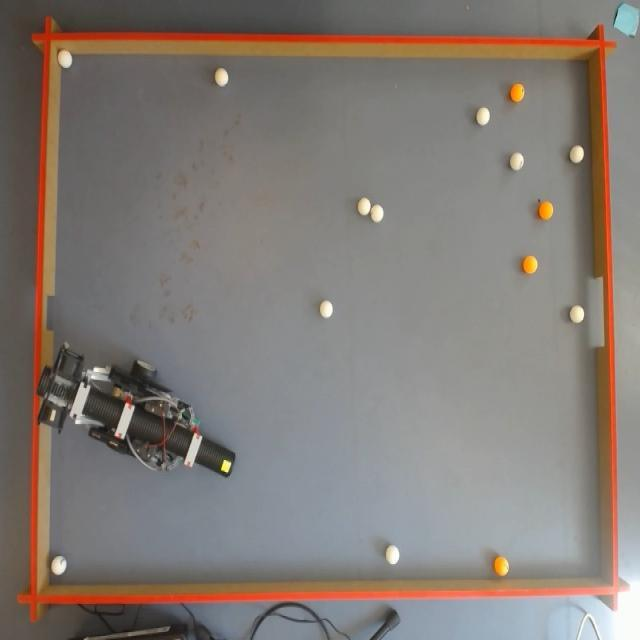orange: (538, 198, 556, 219), (494, 554, 511, 576), (510, 82, 526, 102), (520, 255, 536, 274)
robot: (42, 342, 240, 494)
white: (570, 145, 586, 164), (358, 196, 373, 216), (216, 66, 230, 86), (58, 50, 72, 70), (386, 545, 400, 565), (320, 298, 334, 318), (52, 556, 66, 576), (370, 202, 384, 222), (476, 108, 489, 128), (511, 152, 524, 171), (571, 306, 585, 322)
